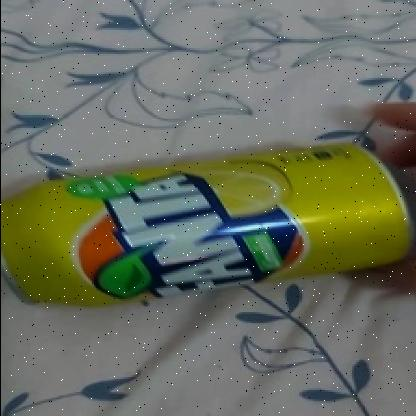Can: (0, 142, 414, 308), (415, 0, 416, 0)
